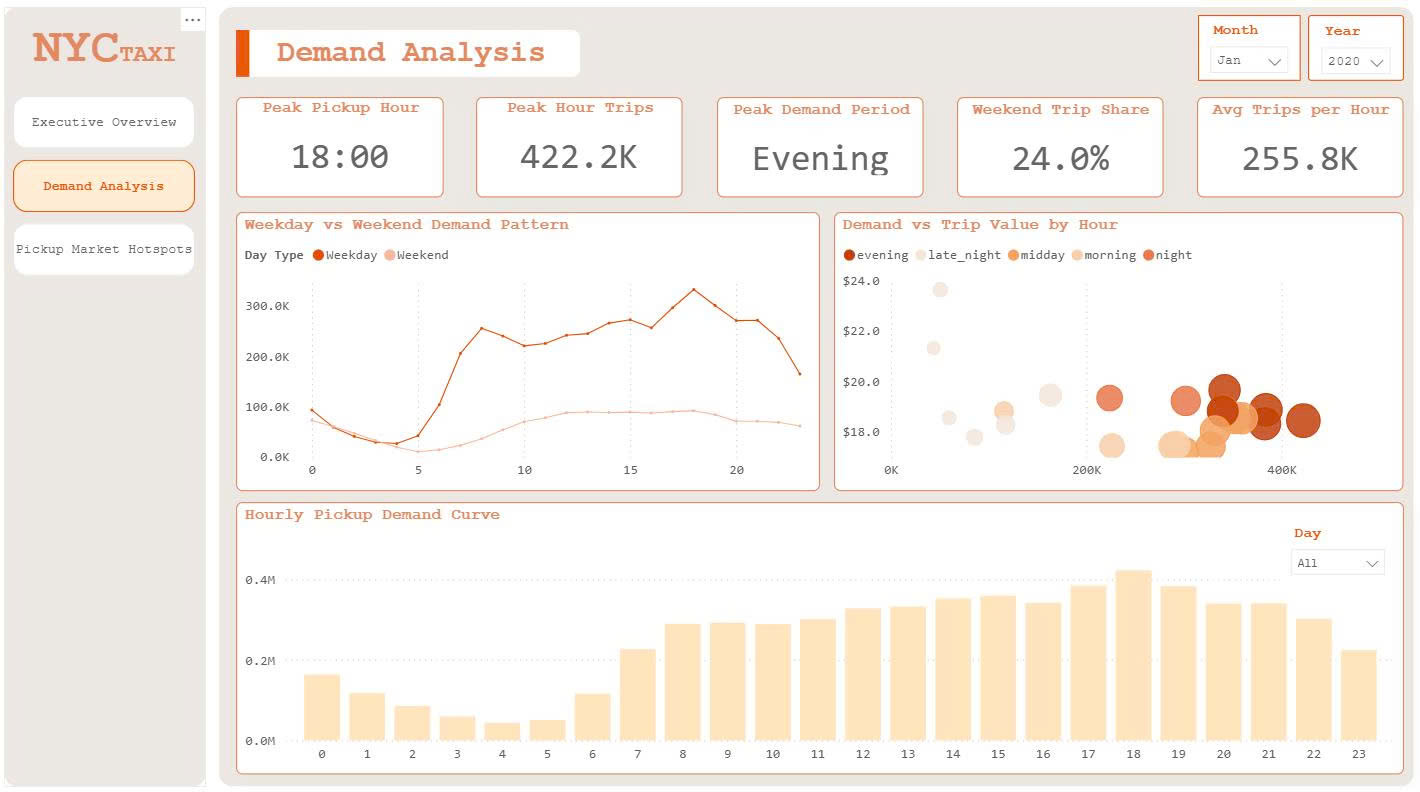

The page's visual inventory and layout, read from the dashboard file:
{"tool":"powerbi","page":{"name":"Demand Analysis","canvas":[1280,720],"ordinal":1},"visuals":[{"type":"shape","box":[201,12,1070,698],"z":0},{"type":"slicer","fields":{"Values":["dim_date.year"]},"box":[1176,19,86,59],"z":1000},{"type":"clusteredColumnChart","title":"Hourly Demand Curve","fields":{"Category":["dim_hour.hour"],"Y":["_Measures_P2.Trips Total P2"]},"box":[216,463,1046,236],"z":2000},{"type":"lineChart","title":"Weekday vs Weekend Hourly Pattern","fields":{"Category":["dim_hour.hour"],"Y":["_Measures_P2.Trips Total P2"],"Series":["dim_date.Day Type"]},"box":[216,216,523,236],"z":3000},{"type":"shape","box":[8,12,181,698],"z":4000},{"type":"cardVisual","title":"Weekend Share","fields":{"Data":["_Measures_P2.Weekend Trip Share"]},"box":[861.5,91.9,185,115.2],"z":5000},{"type":"pageNavigator","box":[16,92,165,85],"z":6000},{"type":"cardVisual","title":"Peak Period","fields":{"Data":["_Measures_P2.KPI Peak Time Period Label"]},"box":[646.4,91.9,185,115.2],"z":7000},{"type":"slicer","fields":{"Values":["dim_date.month_name"]},"box":[1077,19,92,59],"z":8000},{"type":"cardVisual","title":"Trips / Hour Block","fields":{"Data":["_Measures_P2.Avg Trips per Active Hour"]},"box":[1076.5,91.9,185,115],"z":9000},{"type":"cardVisual","title":"Peak Hour","fields":{"Data":["_Measures_P2.KPI Peak Hour Label"]},"box":[215.8,91.9,186,115],"z":10000},{"type":"cardVisual","title":"Peak Hour Trips","fields":{"Data":["_Measures_P2.KPI Peak Hour Trips"]},"box":[431.1,91.9,185,115],"z":11000},{"type":"textbox","box":[26,19,145,59],"z":12000},{"type":"textbox","box":[222,32,302,42],"z":13000},{"type":"shape","box":[216,32,12,42],"z":14000},{"type":"slicer","fields":{"Values":["dim_date.day_of_week_name"]},"box":[1151,470,104,59],"z":15000},{"type":"scatterChart","title":"Demand vs Trip Value by Hour","fields":{"Category":["dim_hour.hour"],"X":["_Measures_P2.Trips Total P2"],"Y":["_Measures_P2.Avg Trip Amount P2"],"Series":["dim_hour.time_period"],"Size":["_Measures_P2.Revenue Total P2"]},"box":[751,216,511,236],"z":16000}]}

Visuals, with their boxes on the page's 1280x720 design canvas (x1, y1, x2, y2). These are canvas units, not pixel positions in the 1420x792 screenshot, which may show the page scaled, cropped or inside an application window:
shape: box(201, 12, 1271, 710)
slicer - dim_date.year: box(1176, 19, 1262, 78)
"Hourly Demand Curve" clusteredColumnChart: box(216, 463, 1262, 699)
"Weekday vs Weekend Hourly Pattern" lineChart: box(216, 216, 739, 452)
shape: box(8, 12, 189, 710)
"Weekend Share" cardVisual: box(862, 92, 1046, 207)
pageNavigator: box(16, 92, 181, 177)
"Peak Period" cardVisual: box(646, 92, 831, 207)
slicer - dim_date.month_name: box(1077, 19, 1169, 78)
"Trips / Hour Block" cardVisual: box(1076, 92, 1262, 207)
"Peak Hour" cardVisual: box(216, 92, 402, 207)
"Peak Hour Trips" cardVisual: box(431, 92, 616, 207)
textbox: box(26, 19, 171, 78)
textbox: box(222, 32, 524, 74)
shape: box(216, 32, 228, 74)
slicer - dim_date.day_of_week_name: box(1151, 470, 1255, 529)
"Demand vs Trip Value by Hour" scatterChart: box(751, 216, 1262, 452)
